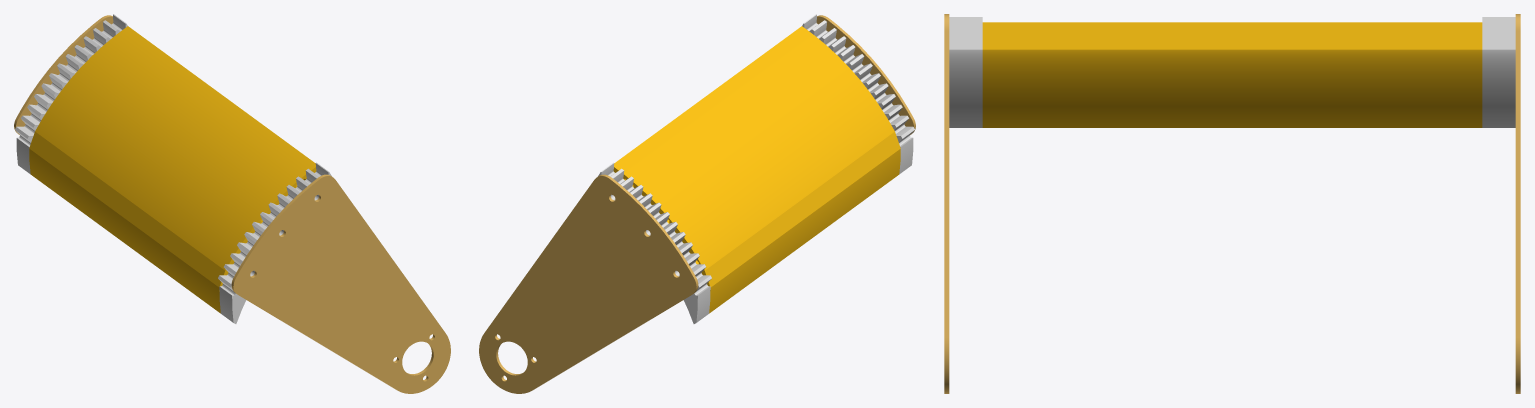
3 renders of one model, left to right at view 1: azimuth 30°, elevation 25°; view 2: azimuth 150°, elevation 25°; view 3: azimuth 270°, elevation 25°, orthographic. The views are drawn at different scales.
Parts seen in each view (by area): view 1: Part 8, occurrence of 4001 (×2), Spur gear (122 teeth) (×2); view 2: Part 8, occurrence of 4001 (×2), Spur gear (122 teeth) (×2); view 3: Part 8, Spur gear (122 teeth) (×2), occurrence of 4001 (×2).
Boxes of the visible parts, x1=… form: Part 8: x1=29, y1=26, x2=316, y2=313; occurrence of 4001 (×2): x1=14, y1=15, x2=450, y2=393; Spur gear (122 teeth) (×2): x1=15, y1=14, x2=331, y2=323; Part 8: x1=613, y1=26, x2=900, y2=313; occurrence of 4001 (×2): x1=479, y1=15, x2=915, y2=393; Spur gear (122 teeth) (×2): x1=598, y1=14, x2=914, y2=323; Part 8: x1=982, y1=22, x2=1482, y2=127; Spur gear (122 teeth) (×2): x1=949, y1=17, x2=1515, y2=127; occurrence of 4001 (×2): x1=944, y1=14, x2=1520, y2=393.
Bounding box in the file's own units: 0.199 × 0.2097 × 0.346.
